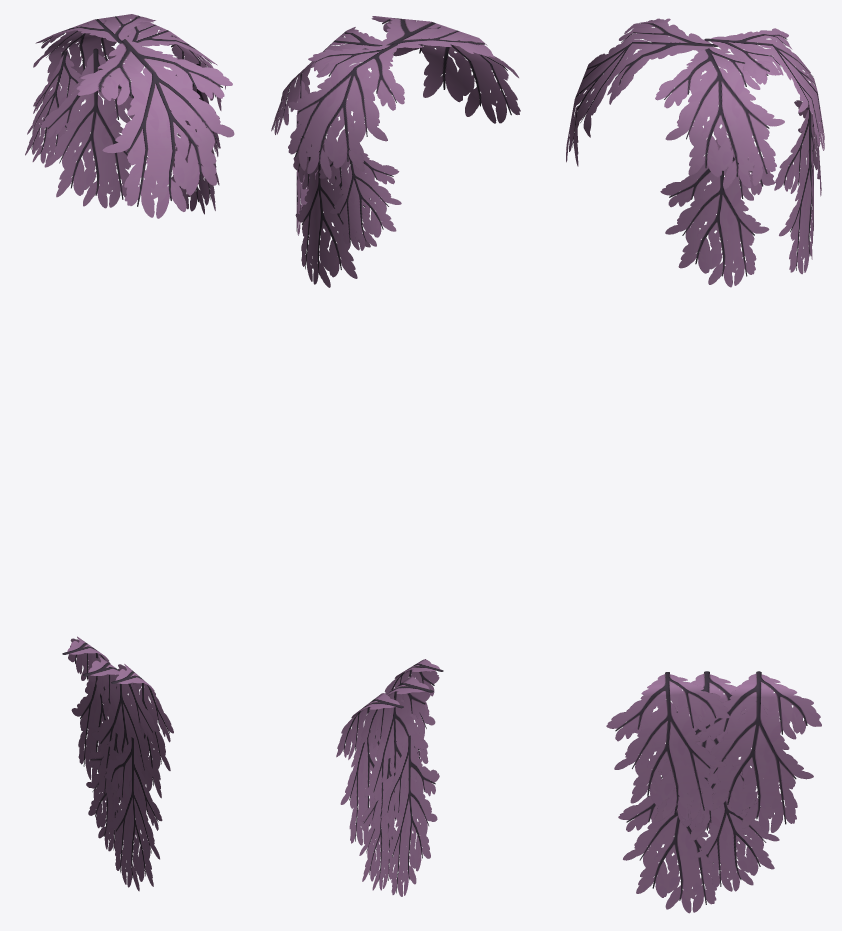
File: LucidusDVineLike.fbx
3 views of the same model, side by side, from view 1: azimuth 30°, elevation 25°; view 2: azimuth 150°, elevation 25°; view 3: azimuth 270°, elevation 25° (orthographic). The views are drawn at different scales.
Parts seen in each view (by area): view 1: Unique_0, Hanging_0; view 2: Unique_0, Hanging_0; view 3: Hanging_0, Unique_0.
Boxes of the visible parts, x1,y1,x2,y2 form: Unique_0: [25, 14, 234, 218]; Hanging_0: [62, 636, 173, 891]; Unique_0: [271, 16, 520, 287]; Hanging_0: [336, 659, 443, 896]; Hanging_0: [606, 671, 821, 913]; Unique_0: [566, 18, 824, 287].
Size of the model in its own units: 422 by 1884 by 517.
